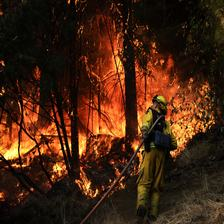fire: (11, 25, 204, 178)
